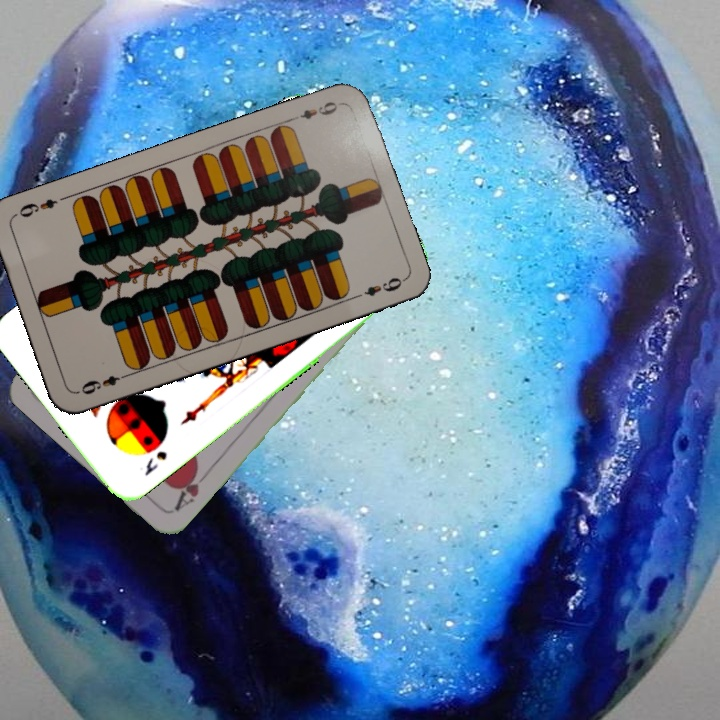E9: (74, 369, 131, 398), (287, 97, 345, 123)
HA: (170, 462, 213, 514)
SK: (140, 447, 170, 479)
